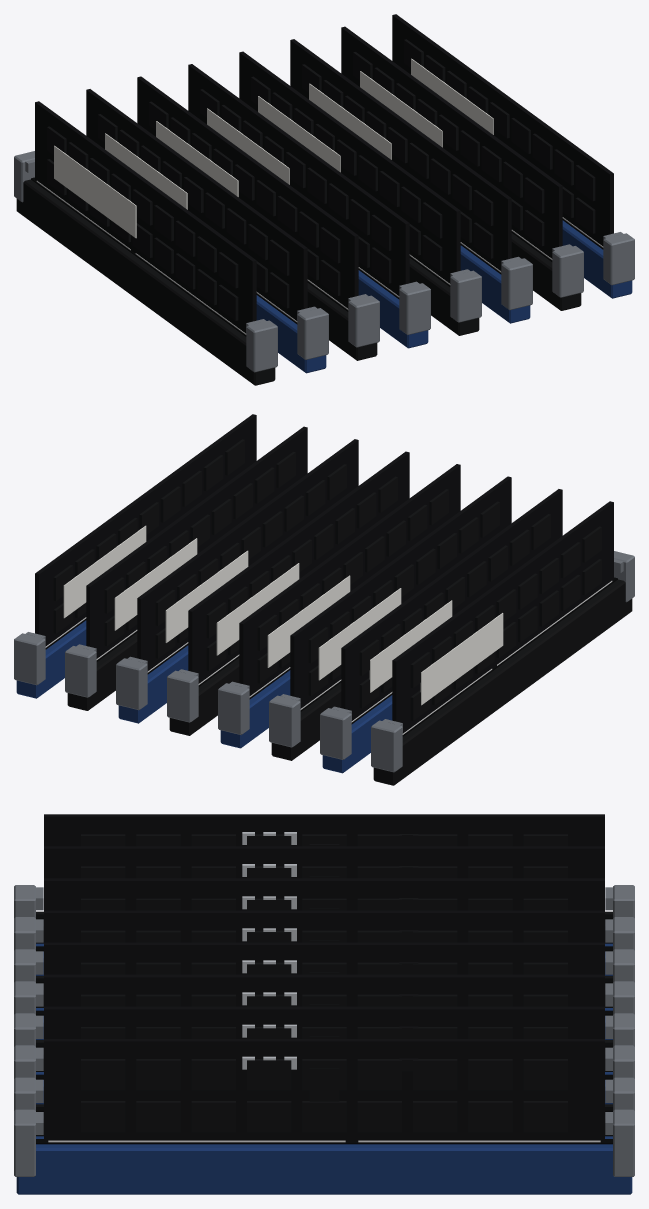
File: hwm_ram_ddr5_96gb.glb
The picture shows the model from 3 angles, top to bottom: view 1: azimuth 30°, elevation 25°; view 2: azimuth 150°, elevation 25°; view 3: azimuth 270°, elevation 25°; orthographic projection. The views are drawn at different scales.
Parts seen in each view (by area): view 1: Slots, Stick_0, Stick_7, Stick_2, Stick_6, Stick_3, Stick_5, Stick_4, Stick_1, Latch_5_1, Latch_0_1, Latch_1_1 (+6 smaller); view 2: Slots, Stick_0, Stick_7, Stick_2, Stick_6, Stick_3, Stick_5, Stick_4, Stick_1, Latch_5_0, Latch_0_0, Latch_1_0 (+6 smaller); view 3: Stick_7, Slots, Stick_0, Stick_1, Stick_2, Stick_3, Stick_4, Stick_5, Stick_6, Latch_7_0, Latch_7_1, Latch_1_0 (+13 smaller).
Boxes of the visible parts, x1,y1,x2,y2 form: Slots: (16,177,632,385); Stick_0: (35,101,256,334); Stick_7: (392,14,613,247); Stick_2: (137,76,358,309); Stick_6: (341,26,562,259); Stick_3: (188,64,409,297); Stick_5: (290,39,511,272); Stick_4: (239,51,460,284); Stick_1: (86,89,307,322); Latch_5_1: (501,256,532,310); Latch_0_1: (246,319,277,372); Latch_1_1: (297,306,328,359); Slots: (16,577,632,785); Stick_0: (392,501,613,734); Stick_7: (35,414,256,647); Stick_2: (290,476,511,709); Stick_6: (86,426,307,659); Stick_3: (239,464,460,697); Stick_5: (137,439,358,672); Stick_4: (188,451,409,684); Stick_1: (341,489,562,722); Latch_5_0: (116,656,147,710); Latch_0_0: (371,719,402,772); Latch_1_0: (320,706,351,759); Stick_7: (44,1039,604,1142); Slots: (16,911,632,1194); Stick_0: (44,814,604,846); Stick_1: (44,846,604,878); Stick_2: (44,878,604,910); Stick_3: (44,910,604,942); Stick_4: (44,942,604,974); Stick_5: (44,974,604,1006); Stick_6: (44,1006,604,1038); Latch_7_0: (605,1109,634,1176); Latch_7_1: (14,1109,43,1176); Latch_1_0: (605,917,634,950).
Bounding box in the file's own units: 0.1346 × 0.0389 × 0.1472.
